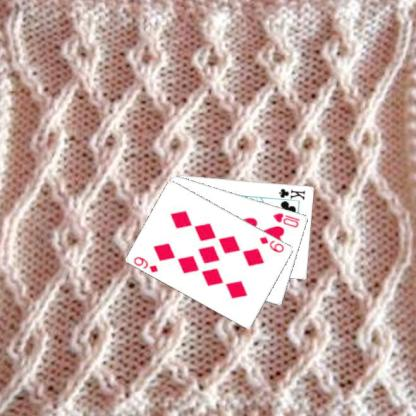10H: (270, 210, 302, 229)
9D: (256, 233, 286, 254), (131, 254, 160, 274)
KC: (273, 185, 307, 203)
